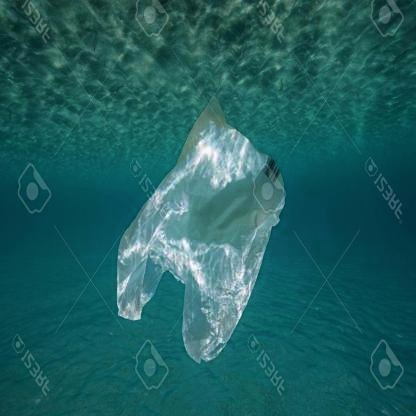pbag: (116, 93, 286, 366)
